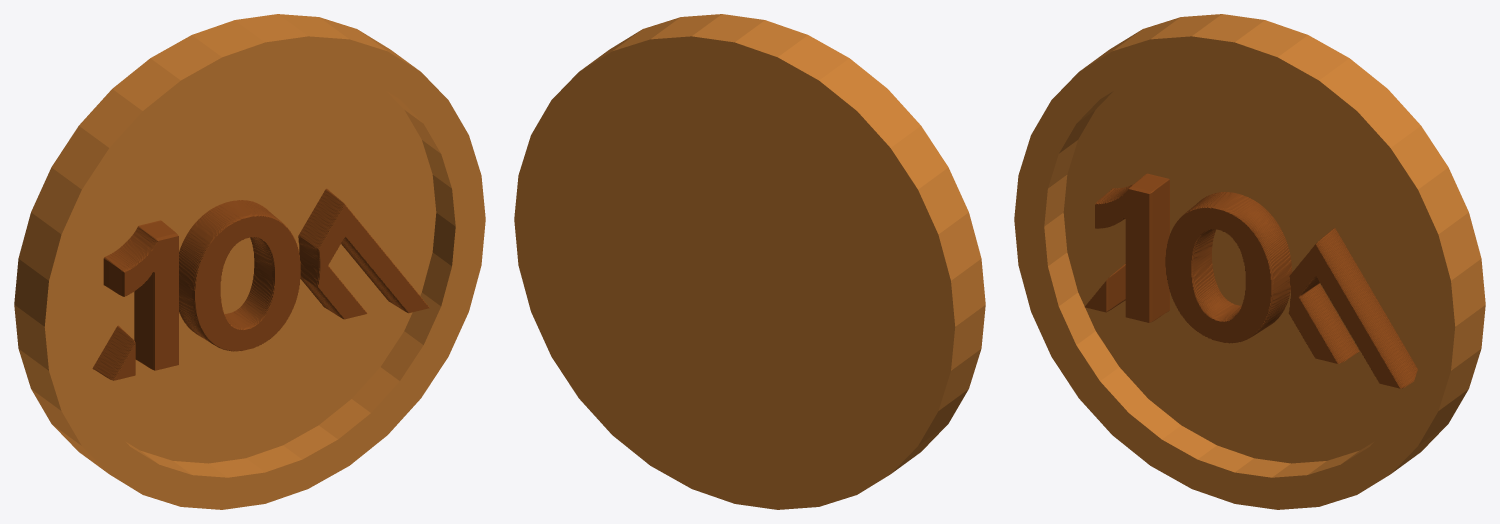
The model's file is tenth.glb.
The picture shows the model from 3 angles, left to right: view 1: azimuth 30°, elevation 25°; view 2: azimuth 150°, elevation 25°; view 3: azimuth 330°, elevation 25°; orthographic projection.
Visible parts, largest first — view 1: Cylinder, ImageToStl.com_tenth; view 2: Cylinder; view 3: Cylinder, ImageToStl.com_tenth.
Boxes of the visible parts, x1,y1,x2,y2 form: Cylinder: (14,14,485,509); ImageToStl.com_tenth: (92,188,429,380); Cylinder: (514,14,985,509); Cylinder: (1014,14,1485,509); ImageToStl.com_tenth: (1085,173,1417,388).
Bounding box in the file's own units: 2 × 2 × 0.24.
